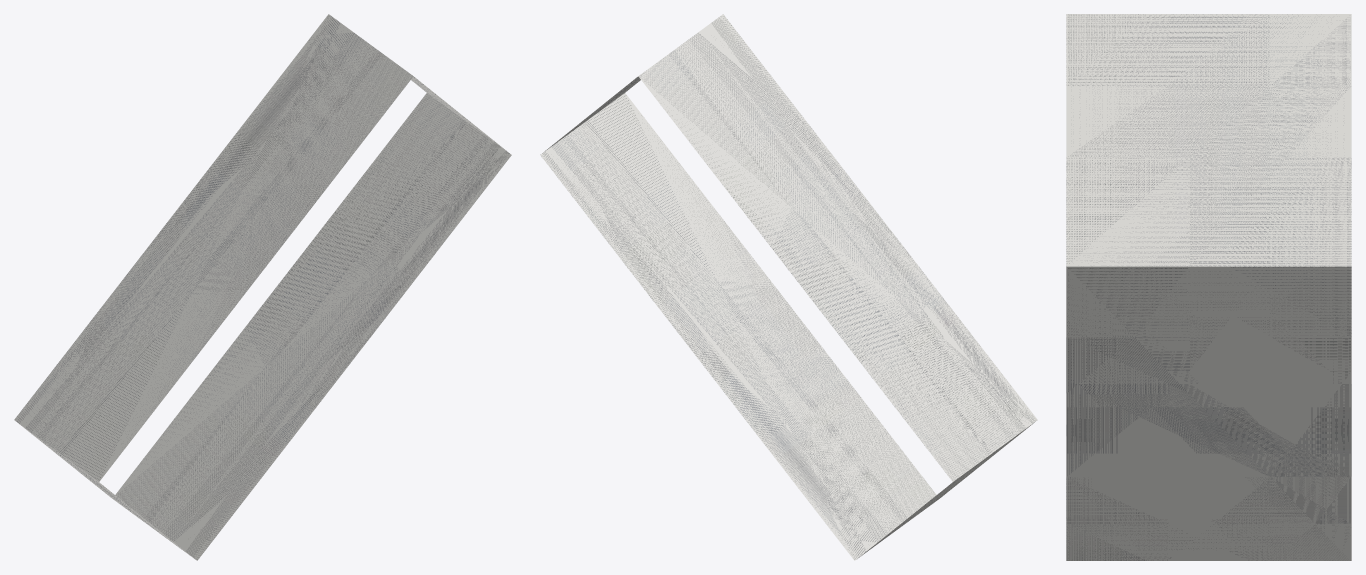
File: original-39.obj
3 renders of one model, left to right at view 1: azimuth 30°, elevation 25°; view 2: azimuth 150°, elevation 25°; view 3: azimuth 270°, elevation 25°, orthographic. The views are drawn at different scales.
Parts seen in each view (by area): view 1: Group5/mesh4/mesh4-geometry/material_0#mesh4-geometry; view 2: Group5/mesh4/mesh4-geometry/material_0#mesh4-geometry; view 3: Group5/mesh4/mesh4-geometry/material_0#mesh4-geometry.
Boxes of the visible parts, bbox=[...] form: Group5/mesh4/mesh4-geometry/material_0#mesh4-geometry: bbox=[14, 14, 511, 560]; Group5/mesh4/mesh4-geometry/material_0#mesh4-geometry: bbox=[540, 14, 1037, 560]; Group5/mesh4/mesh4-geometry/material_0#mesh4-geometry: bbox=[1066, 14, 1351, 560].
Bounding box in the file's own units: 0.0804 × 0.0804 × 0.0287.
